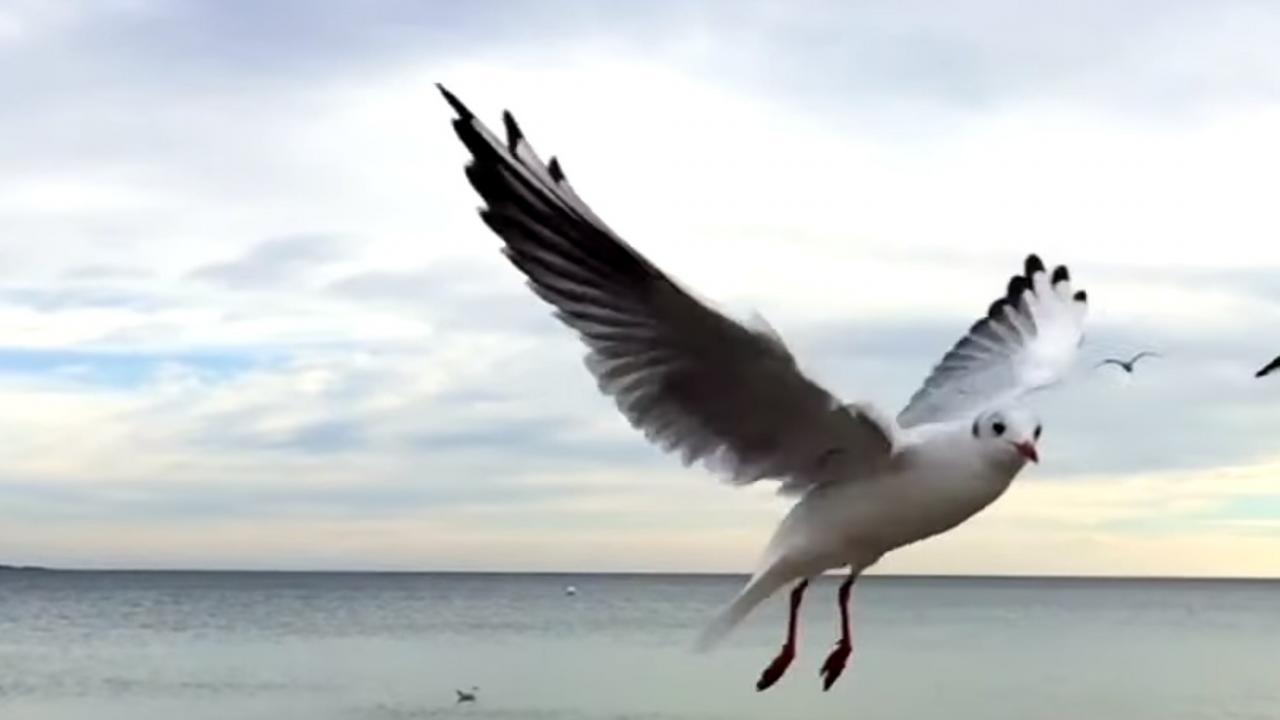Bird: (417, 72, 1102, 702), (1089, 345, 1171, 383)
